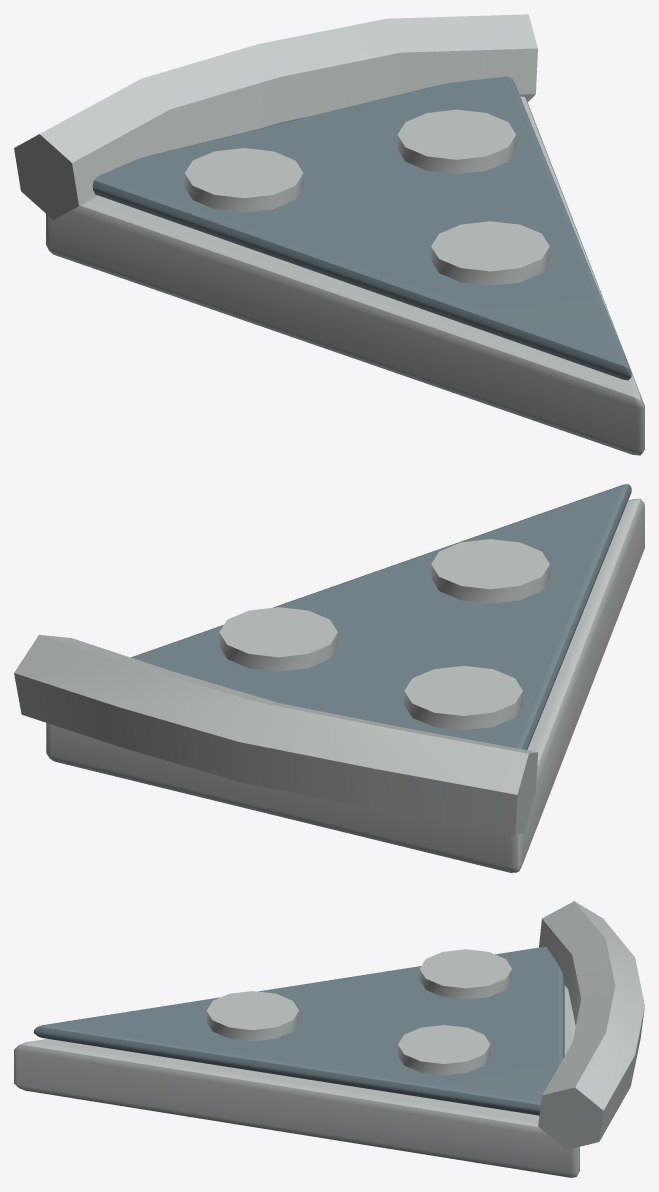
Rendered from pizza-slice.glb.
3 views of the same model, one above another, from view 1: azimuth 30°, elevation 25°; view 2: azimuth 150°, elevation 25°; view 3: azimuth 270°, elevation 25° (orthographic). The views are drawn at different scales.
Visible parts, largest first — view 1: melted_cheese, triangular_base, curved_crust, pepperoni.001, pepperoni, pepperoni.002; view 2: curved_crust, melted_cheese, triangular_base, pepperoni.001, pepperoni.002, pepperoni; view 3: melted_cheese, triangular_base, curved_crust, pepperoni, pepperoni.002, pepperoni.001.
Boxes of the visible parts, x1,y1,x2,y2 form: melted_cheese: [92, 76, 631, 380]; triangular_base: [46, 96, 644, 455]; curved_crust: [14, 14, 537, 219]; pepperoni.001: [397, 109, 516, 173]; pepperoni: [184, 148, 303, 212]; pepperoni.002: [431, 221, 549, 285]; curved_crust: [14, 634, 537, 834]; melted_cheese: [131, 484, 631, 749]; triangular_base: [46, 498, 644, 872]; pepperoni.001: [219, 607, 337, 671]; pepperoni.002: [431, 539, 549, 603]; pepperoni: [404, 666, 522, 730]; melted_cheese: [34, 946, 564, 1115]; triangular_base: [14, 985, 579, 1177]; curved_crust: [538, 901, 644, 1149]; pepperoni: [419, 949, 511, 999]; pepperoni.002: [206, 991, 298, 1041]; pepperoni.001: [398, 1025, 490, 1075].
Size of the model in its own units: 0.1468 by 0.0379 by 0.2044.
